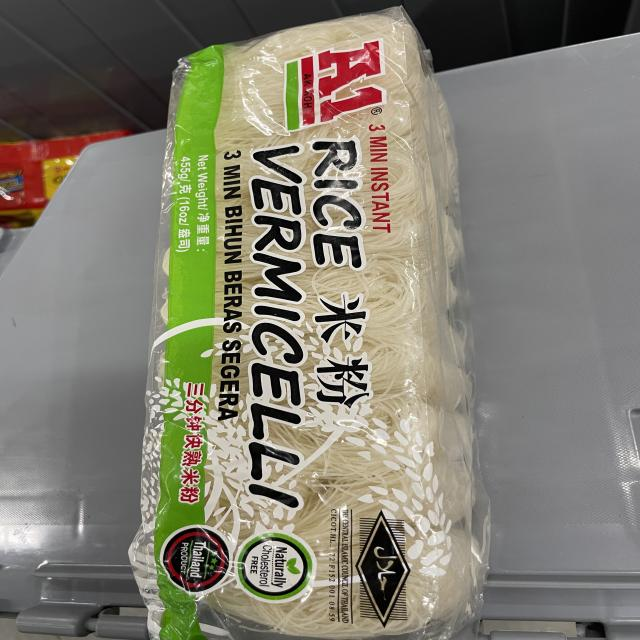object_name: (168, 47, 466, 638)
